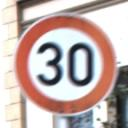speed_limit_30: (12, 10, 120, 118)
